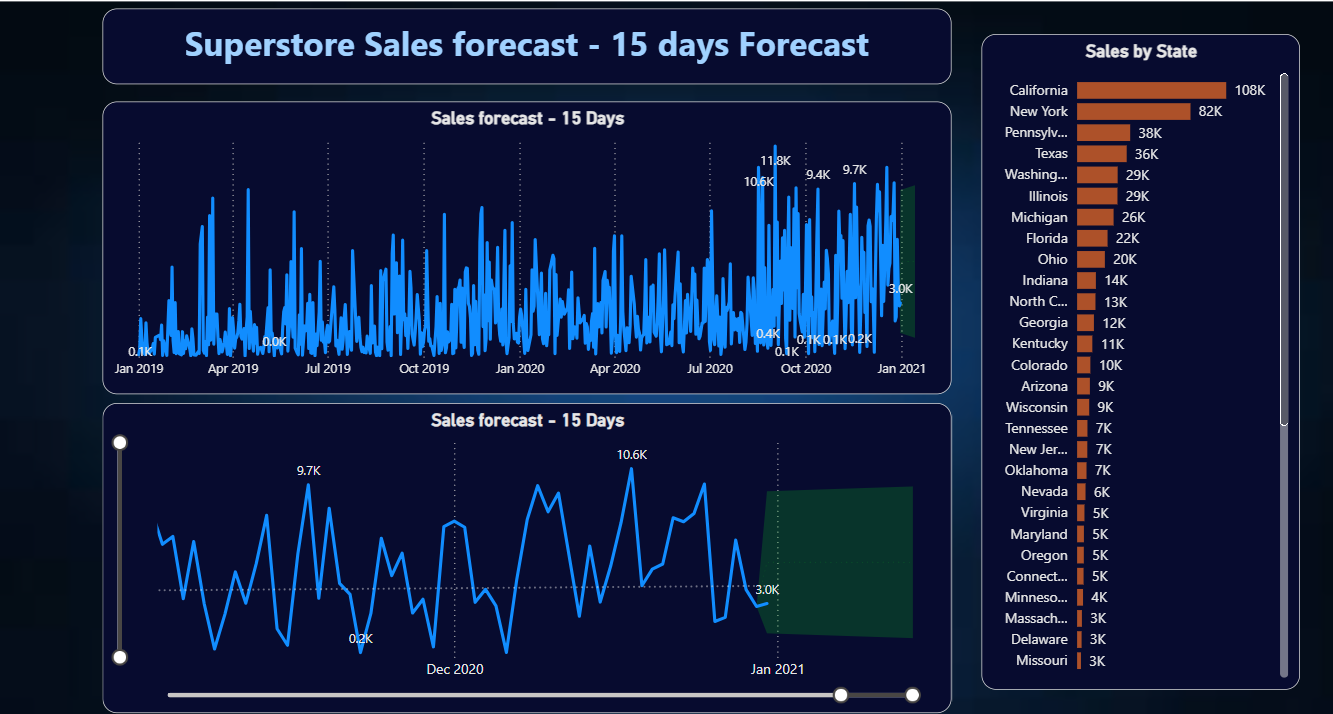

What the dashboard file says about the page in this screenshot:
{"tool":"powerbi","page":{"name":"Forecast","canvas":[1280,720],"ordinal":1},"visuals":[{"type":"lineChart","title":"Sales forecast - 15 Days","fields":{"Y":["Sum(SuperStore_Sales_Dataset.Sales)"],"Category":["SuperStore_Sales_Dataset.Order Date"]},"box":[98.6,400,814.3,297.1],"z":0},{"type":"lineChart","title":"Sales forecast - 15 Days","fields":{"Y":["Sum(SuperStore_Sales_Dataset.Sales)"],"Category":["SuperStore_Sales_Dataset.Order Date"]},"box":[99.2,110.3,814.3,280.4],"z":1000},{"type":"clusteredBarChart","title":" Sales by State","fields":{"Y":["Sum(SuperStore_Sales_Dataset.Sales)"],"Category":["SuperStore_Sales_Dataset.State"]},"box":[941.9,45.7,305.6,628.5],"z":2000},{"type":"textbox","box":[99.2,22.1,814.3,72.5],"z":3000}]}

Visuals, with their boxes on the page's 1280x720 design canvas (x1, y1, x2, y2). These are canvas units, not pixel positions in the 1333x714 screenshot, which may show the page scaled, cropped or inside an application window:
"Sales forecast - 15 Days" lineChart: [left=99, top=400, right=913, bottom=697]
"Sales forecast - 15 Days" lineChart: [left=99, top=110, right=914, bottom=391]
" Sales by State" clusteredBarChart: [left=942, top=46, right=1248, bottom=674]
textbox: [left=99, top=22, right=914, bottom=95]
